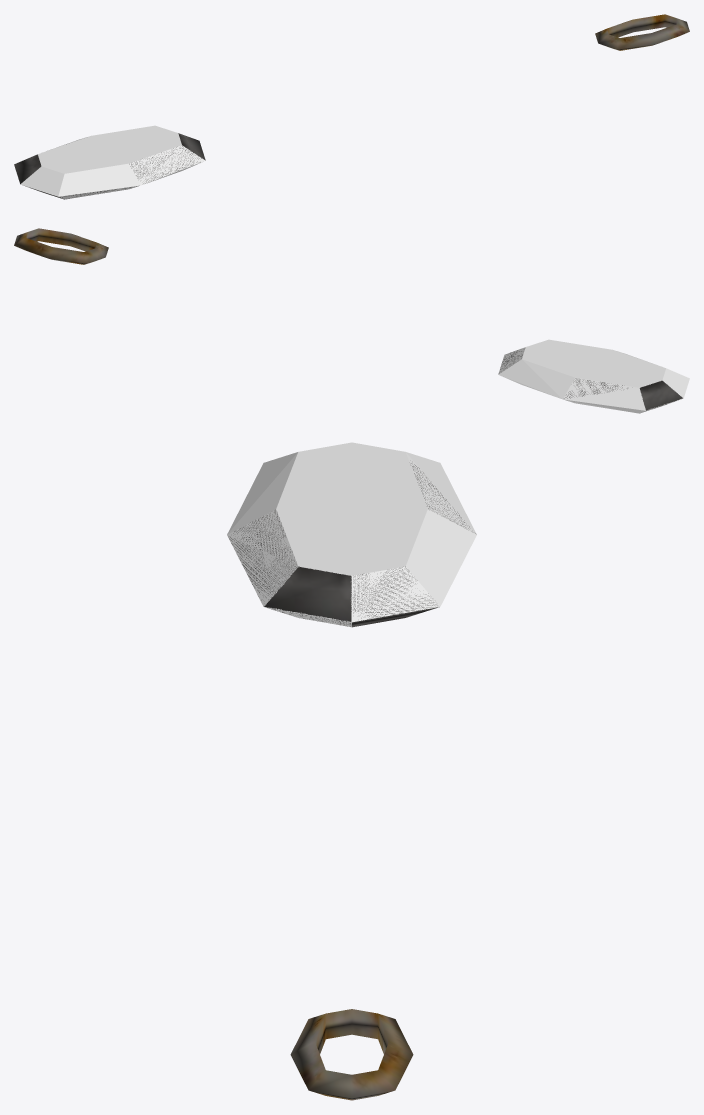
The model's file is chain_link.low.webp.glb.
3 views of the same model, one above another, from view 1: azimuth 30°, elevation 25°; view 2: azimuth 150°, elevation 25°; view 3: azimuth 270°, elevation 25° (orthographic). The views are drawn at different scales.
Visible parts, largest first — view 1: COL, LOD1_LINK_small, LOD1_LINK_big; view 2: COL, LOD1_LINK_small, LOD1_LINK_big; view 3: COL, LOD1_LINK_small, LOD1_LINK_big.
Part boxes in pixels (bbox=[...]): COL: bbox=[20, 125, 205, 199]; LOD1_LINK_small: bbox=[595, 14, 689, 50]; LOD1_LINK_big: bbox=[14, 133, 205, 199]; COL: bbox=[498, 339, 689, 413]; LOD1_LINK_small: bbox=[14, 228, 108, 264]; LOD1_LINK_big: bbox=[500, 350, 682, 410]; COL: bbox=[227, 442, 476, 627]; LOD1_LINK_small: bbox=[290, 1009, 413, 1100]; LOD1_LINK_big: bbox=[229, 463, 475, 627].
Bounding box in the file's own units: 0.751 × 0.0277 × 0.122.
Materials: 1 (1 with a texture image).
